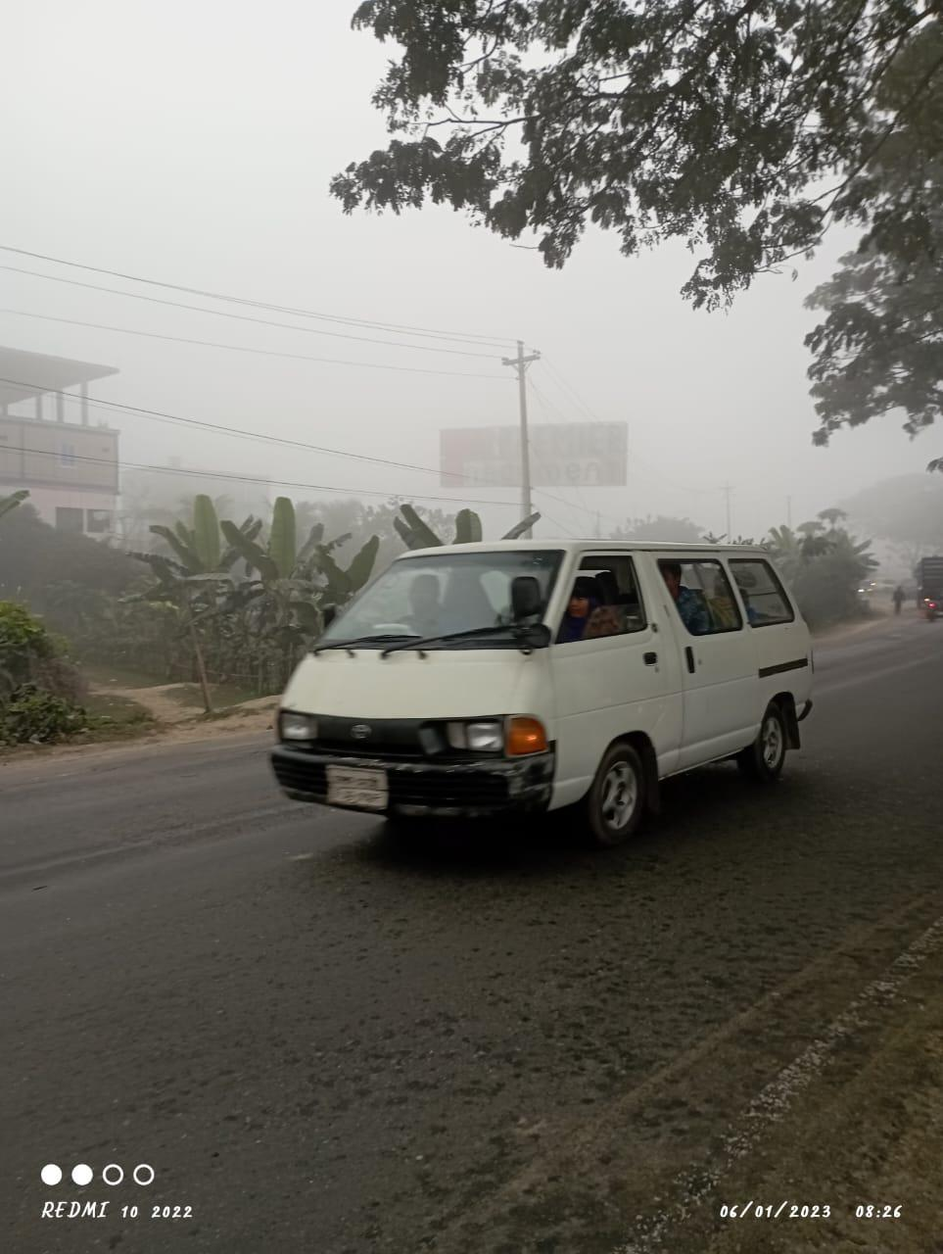Car: (262, 533, 831, 820)
